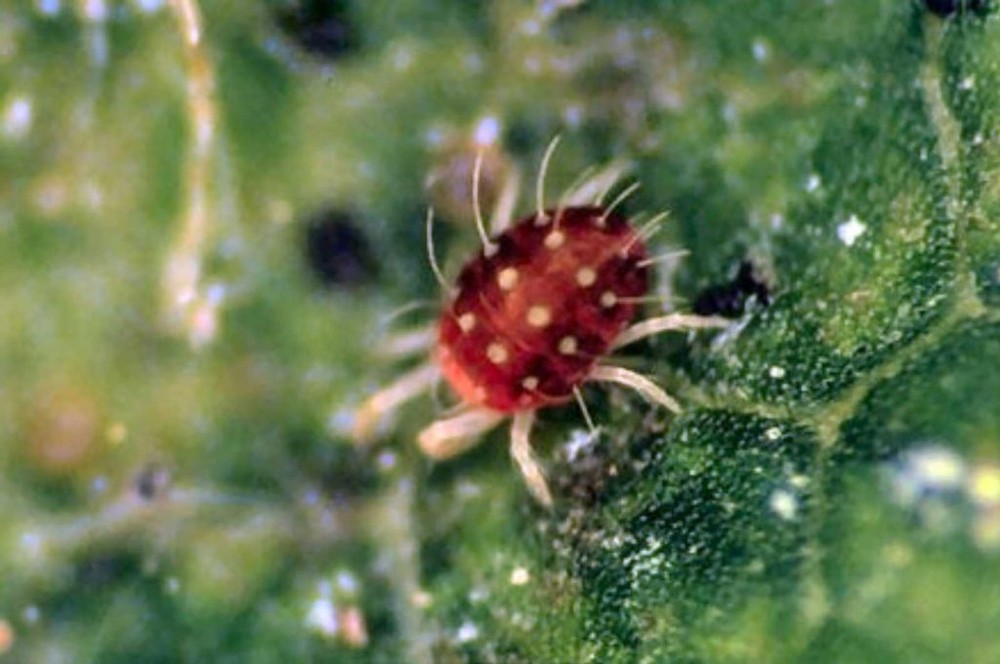Aracnido Rojo: (340, 137, 755, 510)
